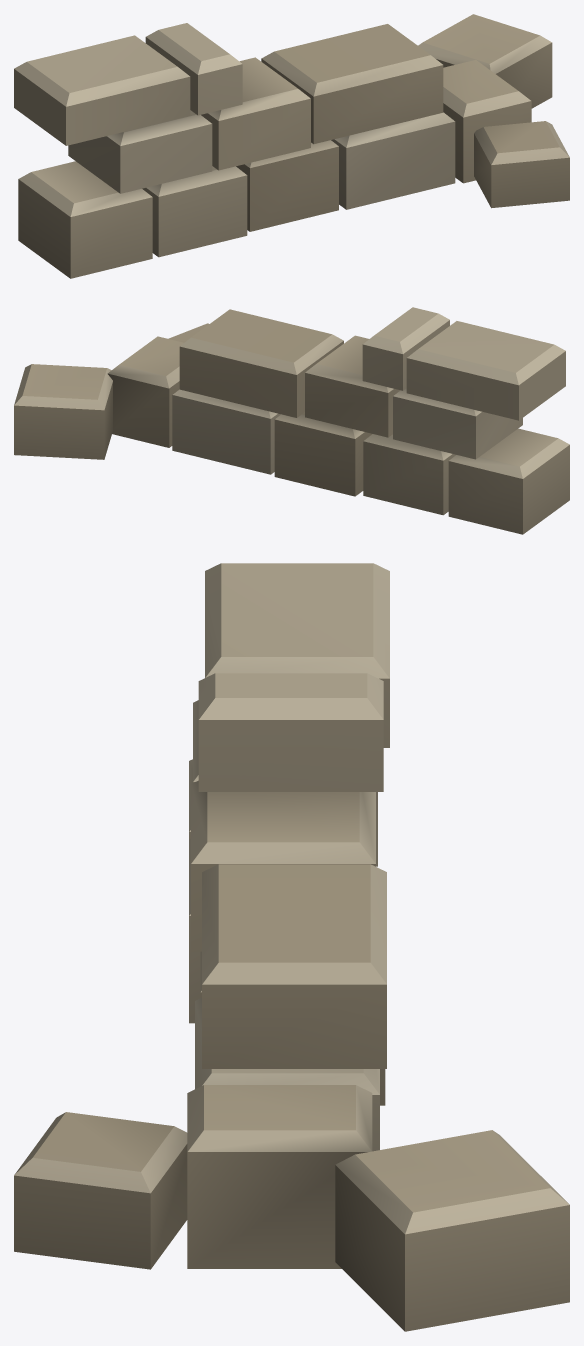
File: muret_ruine.glb
3 views of the same model, one above another, from view 1: azimuth 30°, elevation 25°; view 2: azimuth 150°, elevation 25°; view 3: azimuth 270°, elevation 25° (orthographic). The views are drawn at different scales.
Parts seen in each view (by area): view 1: muret_ruine; view 2: muret_ruine; view 3: muret_ruine.
Part boxes in pixels (<box>): muret_ruine: <box>14,14,569,278</box>; muret_ruine: <box>14,307,569,534</box>; muret_ruine: <box>14,563,569,1331</box>.
Bounding box in the file's own units: 3.72 × 1.17 × 1.86.
